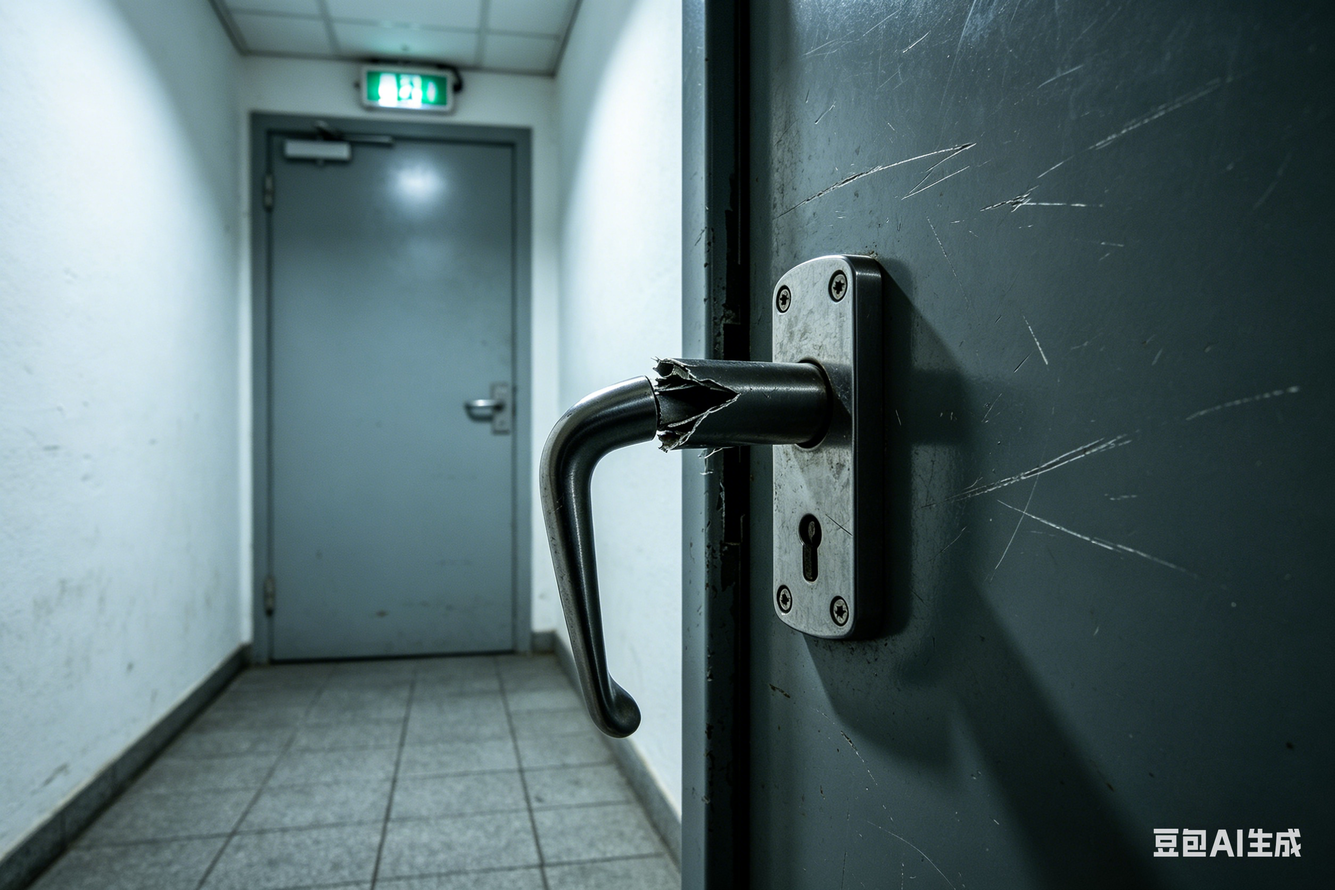BadLock: (618, 332, 734, 460)
